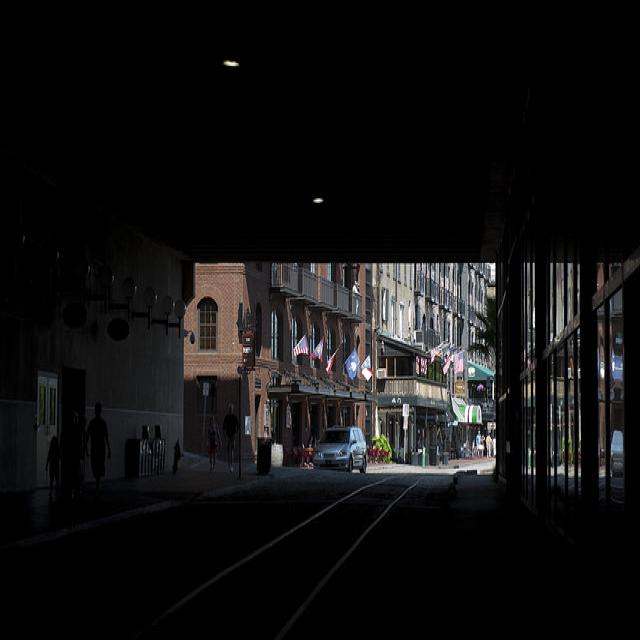Car: (292, 433, 372, 510)
